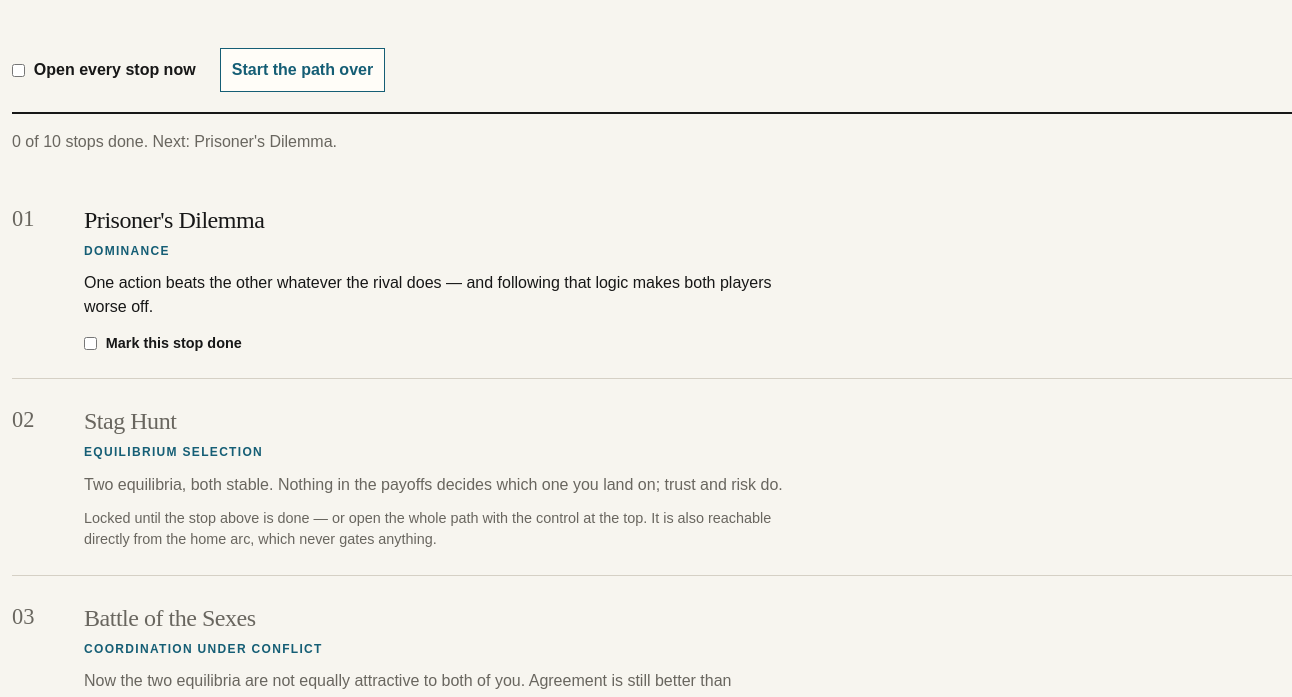
it: V2-P10 curriculum path surface › unlocks the next stop when one is marked done
Click the checkbox labelled "Mark this stop done": {"x": 90, "y": 344} [84, 337, 97, 350]
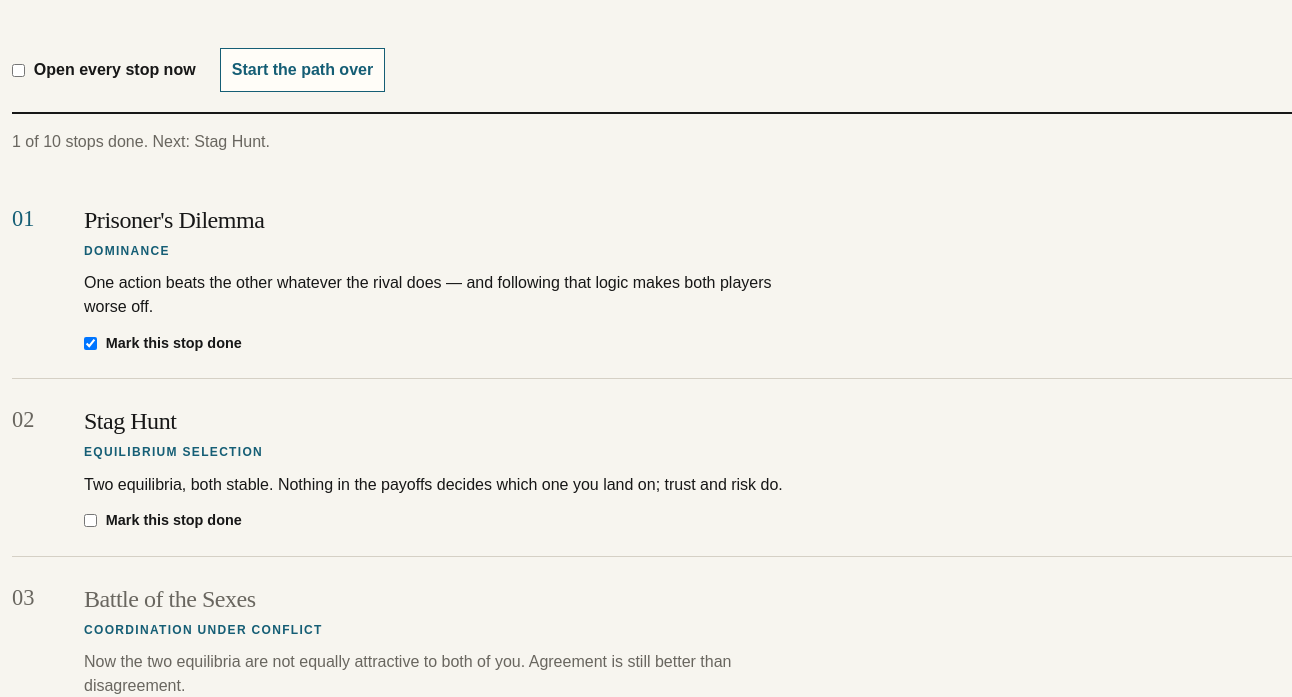
Now the link "Stag Hunt" is shown, box [84, 408, 176, 434]
